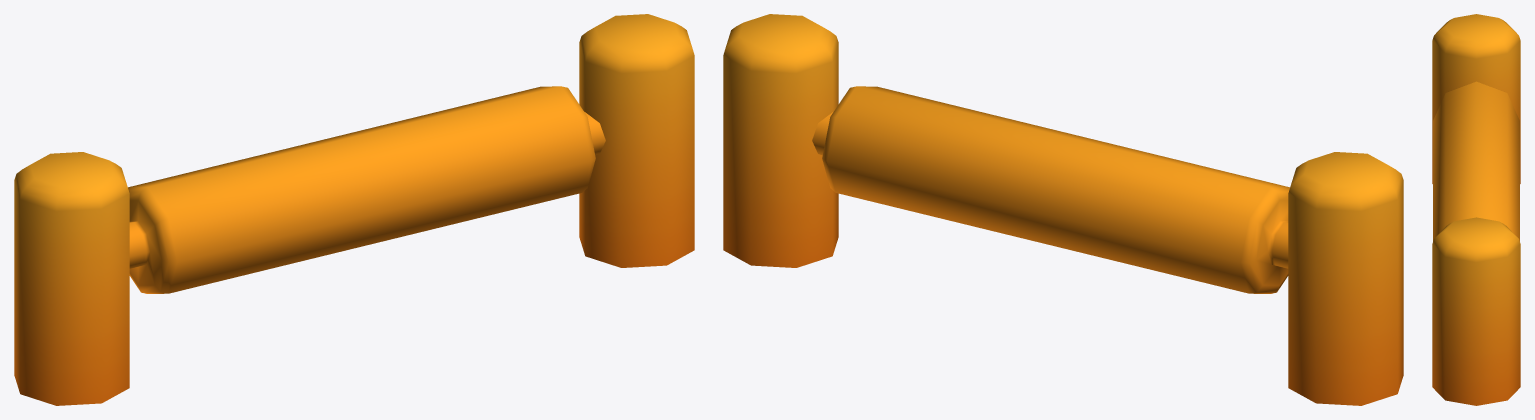
Rendered from Obstacle_Barricade_01.fbx.
3 renders of one model, left to right at view 1: azimuth 30°, elevation 25°; view 2: azimuth 150°, elevation 25°; view 3: azimuth 270°, elevation 25°, orthographic. The views are drawn at different scales.
Parts seen in each view (by area): view 1: Obstacle_Barricade_01; view 2: Obstacle_Barricade_01; view 3: Obstacle_Barricade_01.
Part boxes in pixels (box(x1,y1,x2,y2)): Obstacle_Barricade_01: box(14, 14, 694, 405); Obstacle_Barricade_01: box(723, 14, 1403, 405); Obstacle_Barricade_01: box(1432, 14, 1520, 405).
Bounding box in the file's own units: 181 × 54.87 × 28.01.
